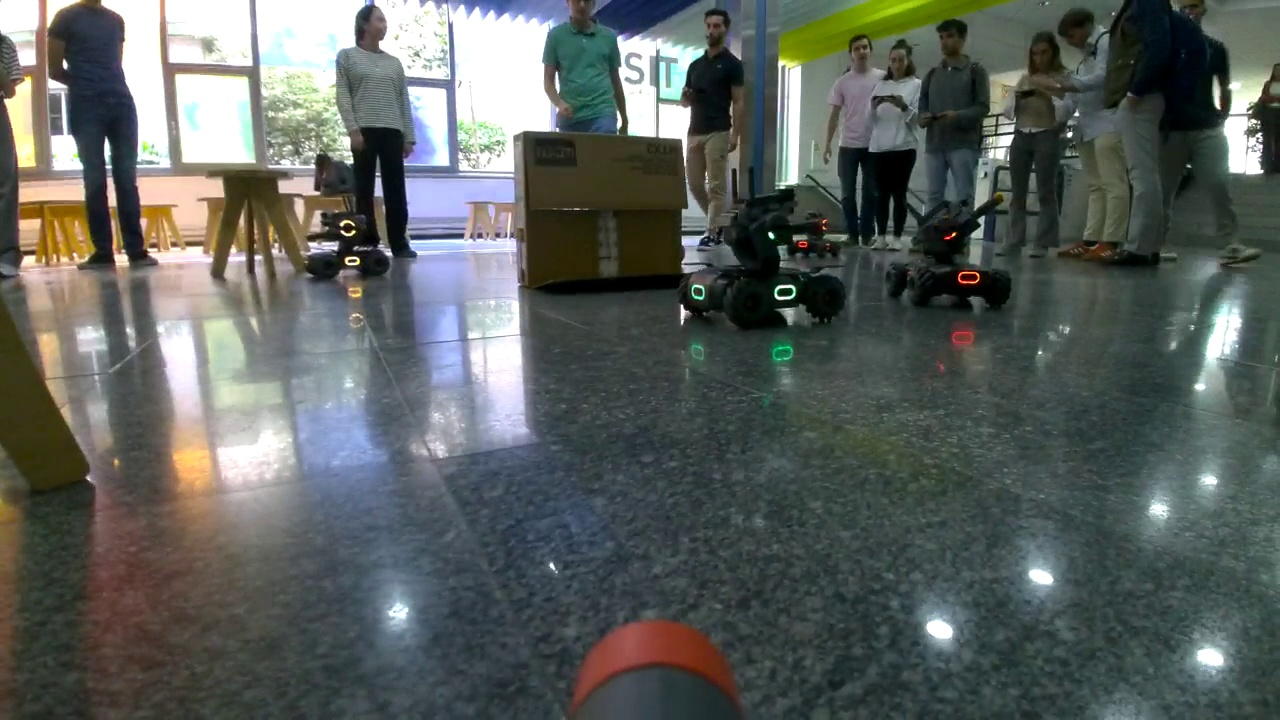robot: (675, 191, 854, 330), (884, 195, 1019, 310), (299, 206, 401, 284)
